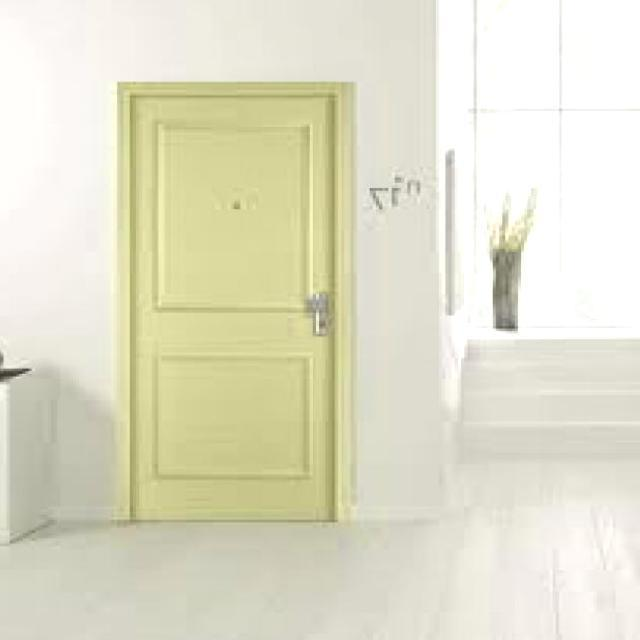door: (125, 84, 342, 522)
